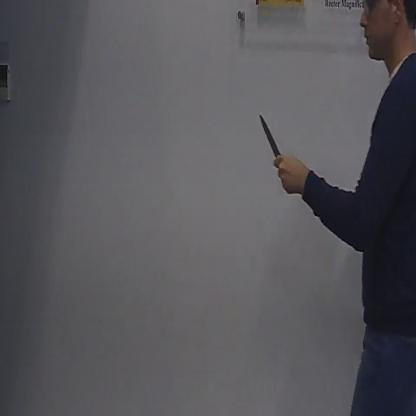knife: (255, 104, 295, 198)
